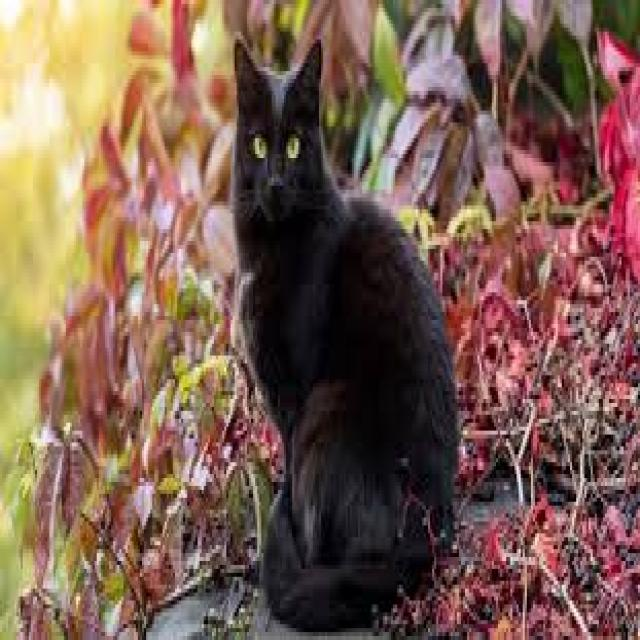Cat: (229, 33, 460, 635)
